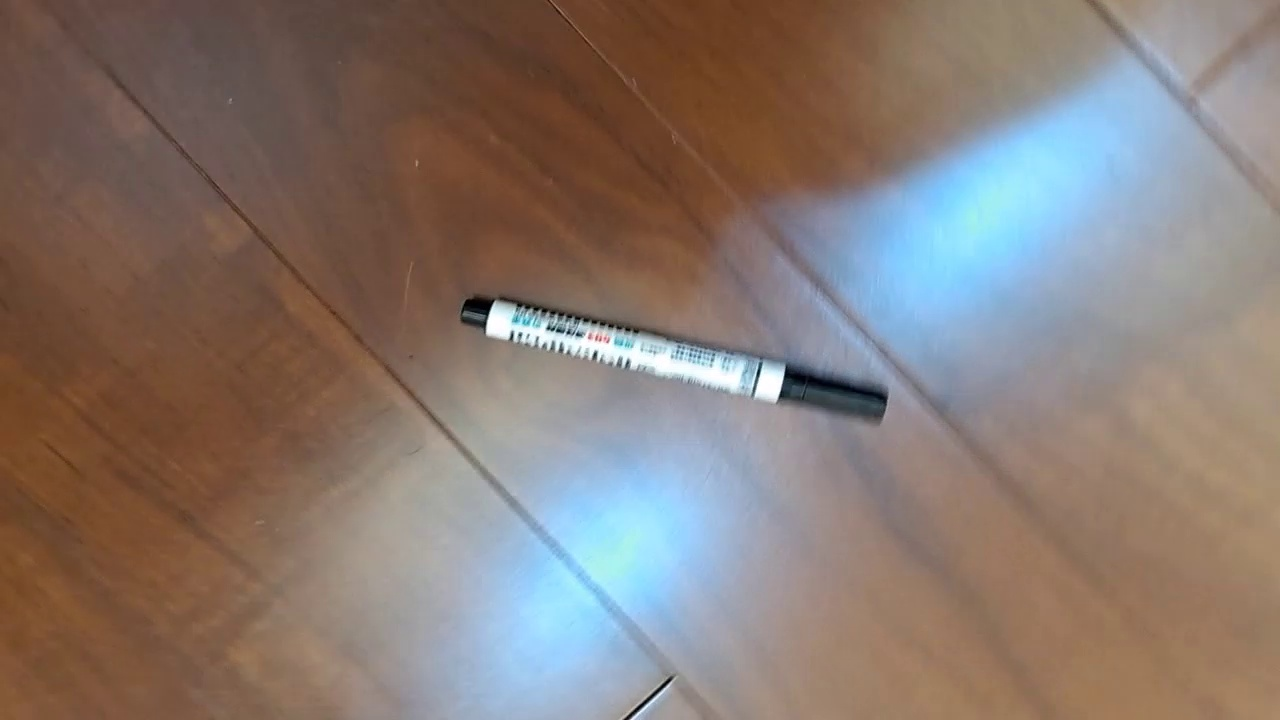pen: (460, 295, 889, 426)
